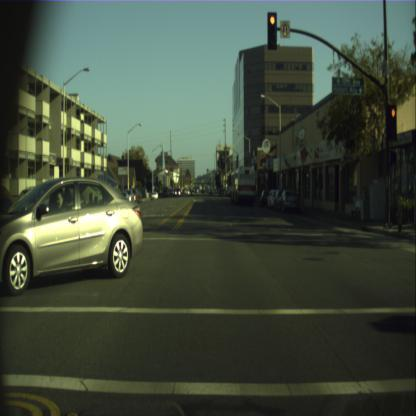Red: (267, 12, 277, 50), (388, 104, 397, 139)
